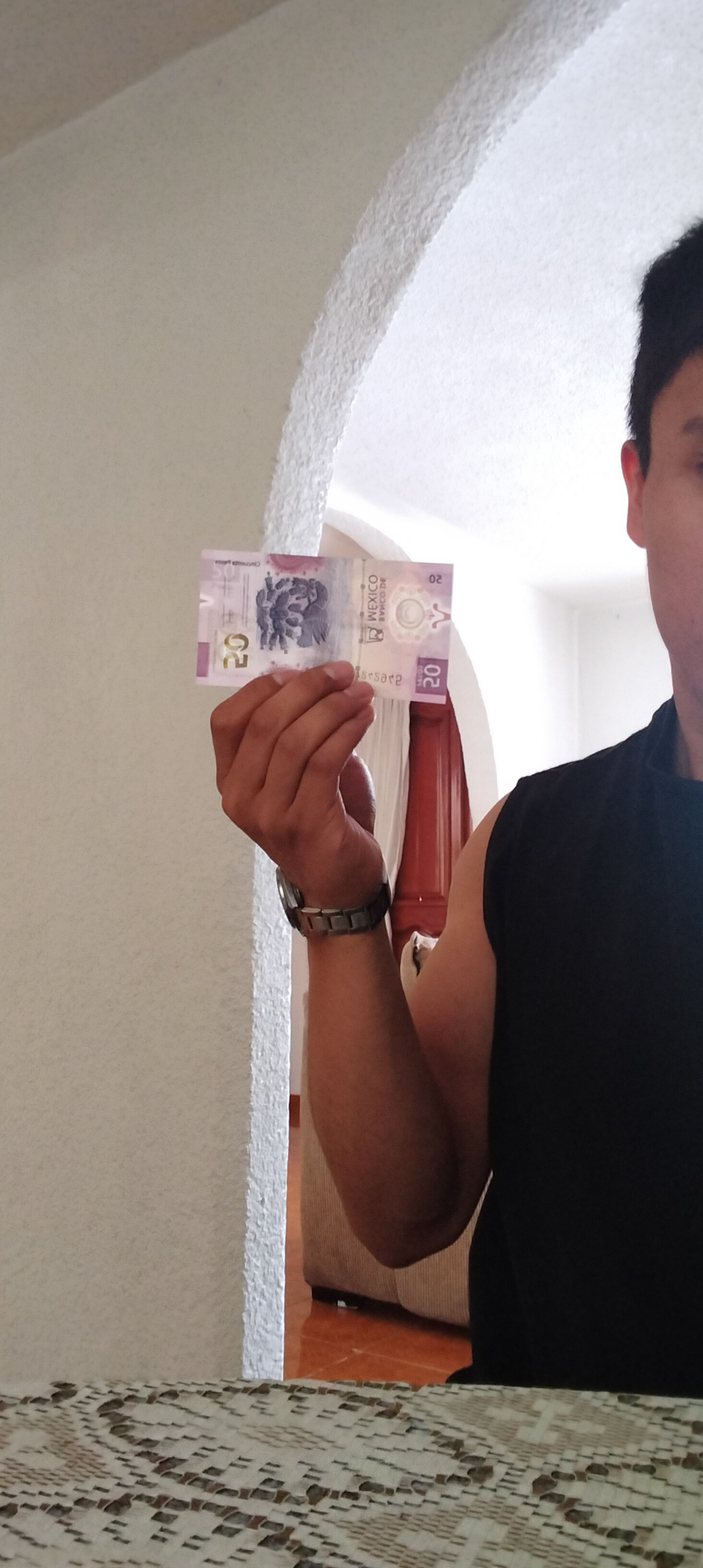billetes: (176, 532, 511, 722)
